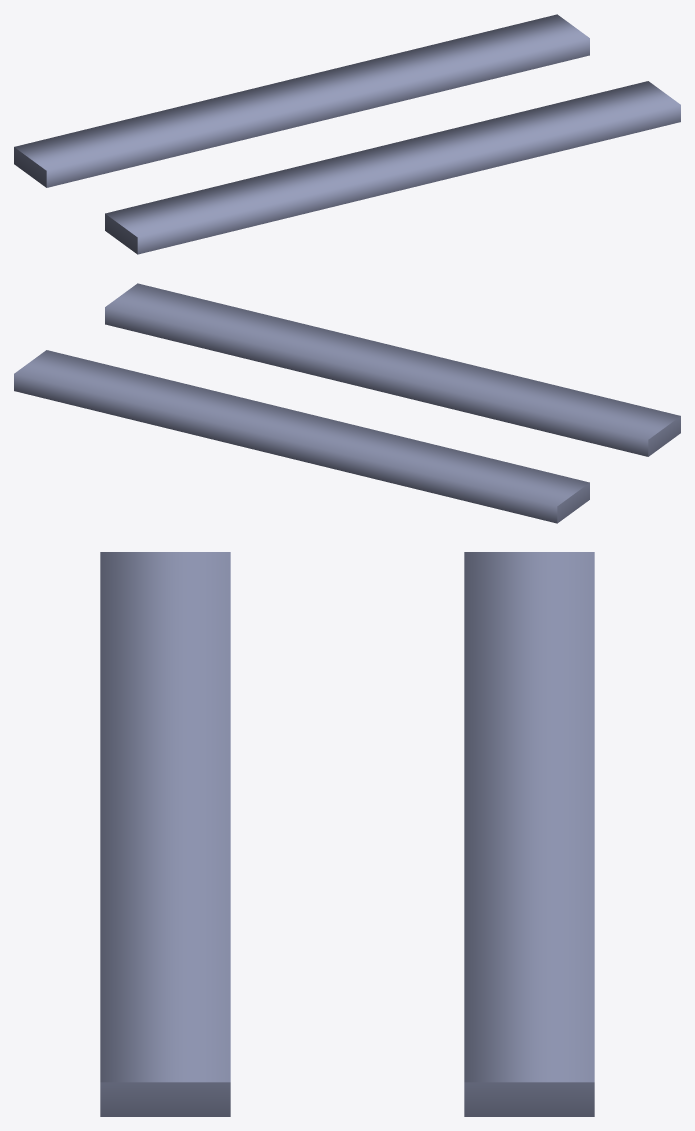
The model's file is trainset-rail-straight.glb.
The picture shows the model from 3 angles, top to bottom: view 1: azimuth 30°, elevation 25°; view 2: azimuth 150°, elevation 25°; view 3: azimuth 270°, elevation 25°; orthographic projection. The views are drawn at different scales.
Visible parts, largest first — view 1: trainset-rail-straight; view 2: trainset-rail-straight; view 3: trainset-rail-straight.
Part boxes in pixels (bbox=[...]): trainset-rail-straight: bbox=[14, 14, 680, 254]; trainset-rail-straight: bbox=[14, 283, 680, 523]; trainset-rail-straight: bbox=[100, 552, 594, 1116].
Bounding box in the file's own units: 0.5 × 0.0151 × 0.197.
